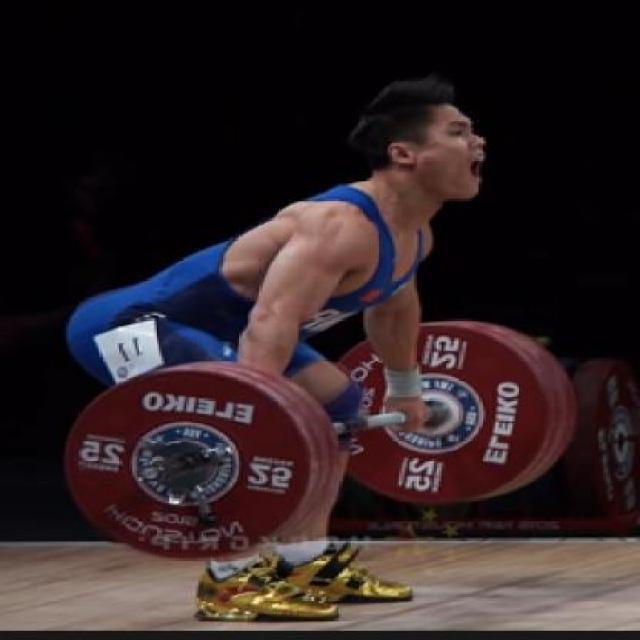Barbell: (130, 460, 170, 486)
